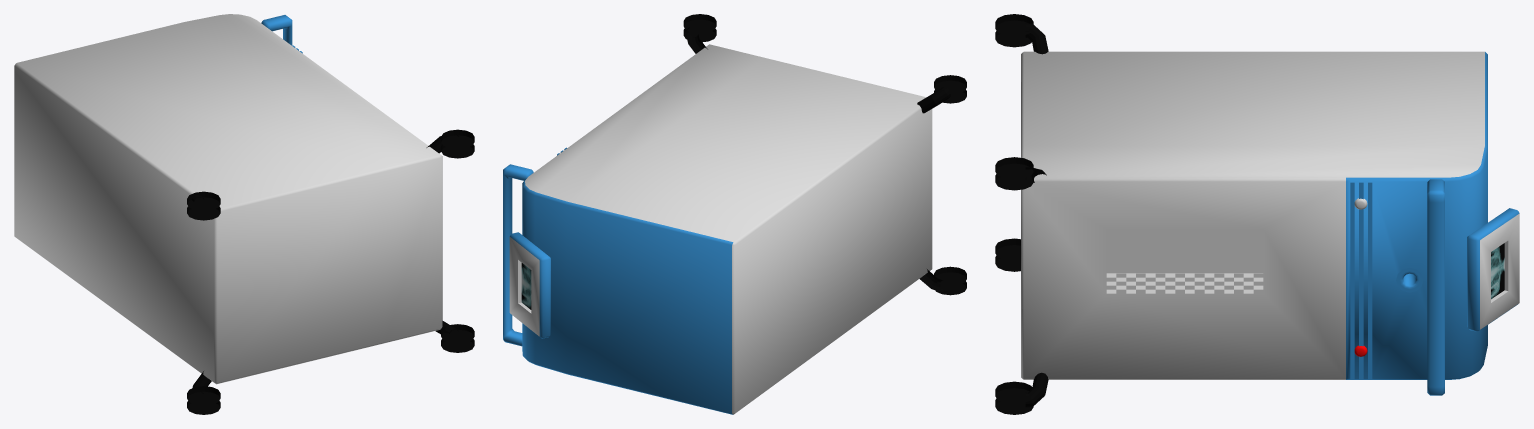
3 renders of one model, left to right at view 1: azimuth 30°, elevation 25°; view 2: azimuth 150°, elevation 25°; view 3: azimuth 270°, elevation 25°, orthographic. The views are drawn at different scales.
Parts seen in each view (by area): view 1: Cube.001; view 2: Cube.001; view 3: Cube.001.
Boxes of the visible parts, x1=… form: Cube.001: x1=14, y1=14, x2=474, y2=414; Cube.001: x1=503, y1=14, x2=966, y2=414; Cube.001: x1=995, y1=14, x2=1519, y2=414.
Bounding box in the file's own units: 74.4 × 52.52 × 103.
